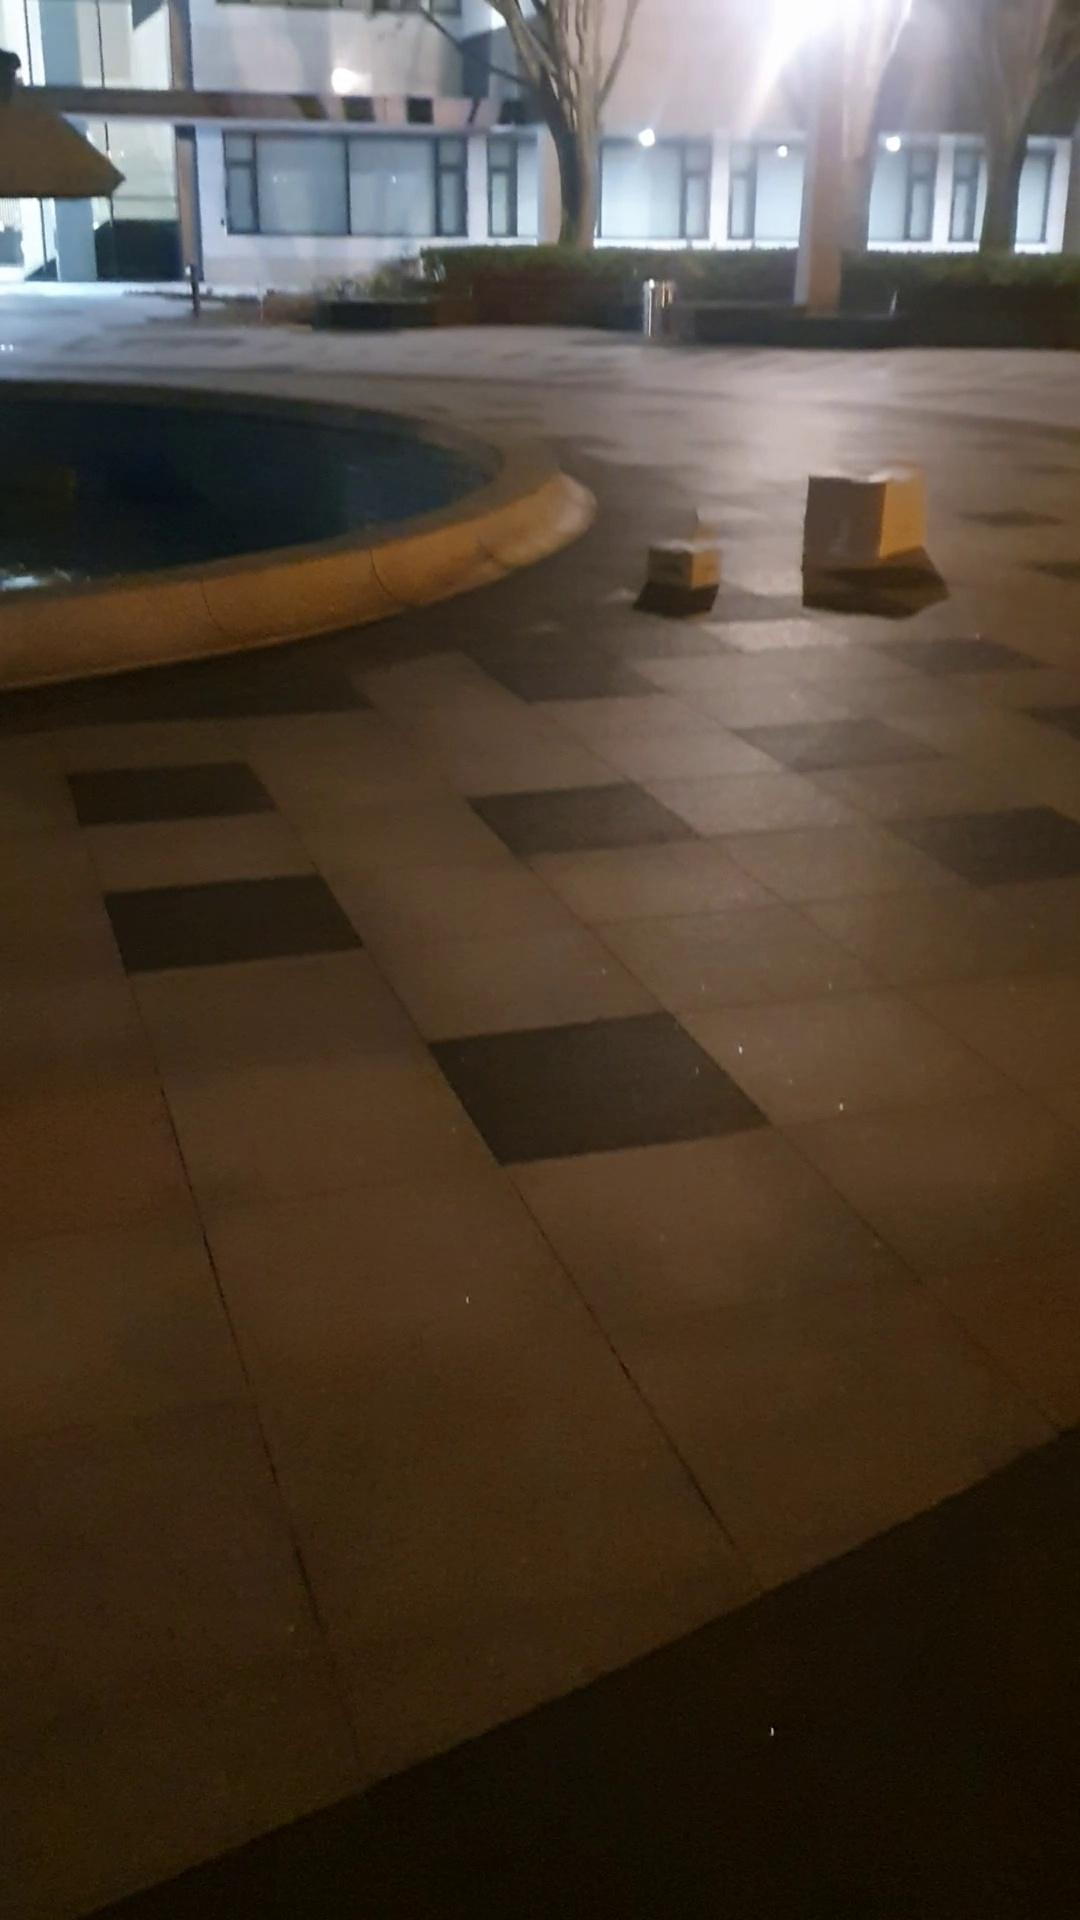Box: (789, 443, 928, 589), (636, 518, 715, 593)
